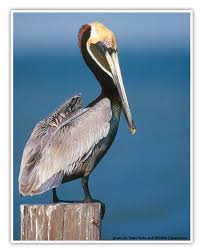pelican: (18, 21, 137, 204)
